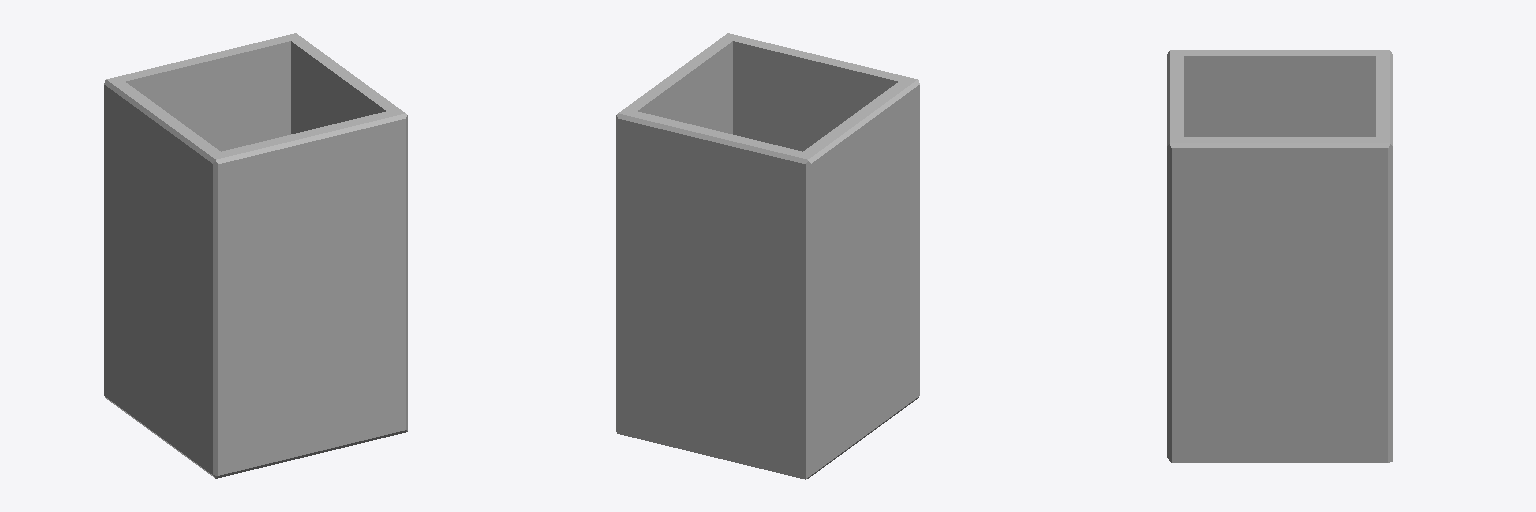
The picture shows the model from 3 angles: view 1: azimuth 30°, elevation 25°; view 2: azimuth 150°, elevation 25°; view 3: azimuth 270°, elevation 25°; orthographic projection.
Parts seen in each view (by area): view 1: Bote_de_basura001; view 2: Bote_de_basura001; view 3: Bote_de_basura001.
Part boxes in pixels (x1,y1,x2,y2): Bote_de_basura001: (104, 33, 407, 478); Bote_de_basura001: (616, 33, 919, 479); Bote_de_basura001: (1167, 50, 1392, 462).
Size of the model in its own units: 16 by 25 by 16.
Materials: 1 (1 with a texture image).